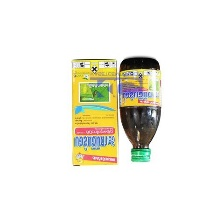carton: (68, 56, 120, 169)
insecticide: (116, 53, 163, 167)
